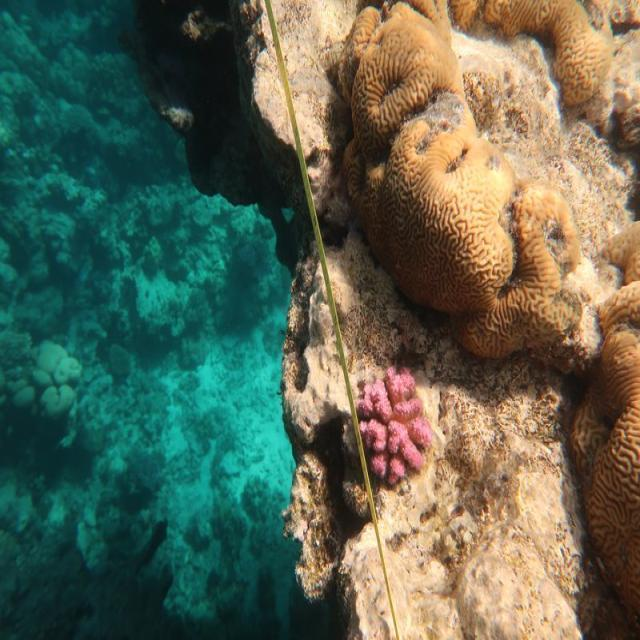Healthy Coral: (338, 131, 589, 354), (561, 214, 640, 614), (454, 0, 620, 132), (318, 0, 472, 116), (354, 357, 435, 507)
